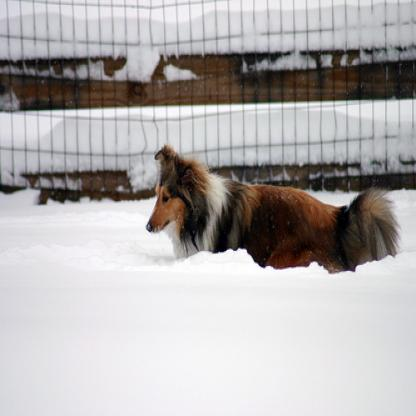Shetland_sheepdog: (144, 141, 399, 270)
